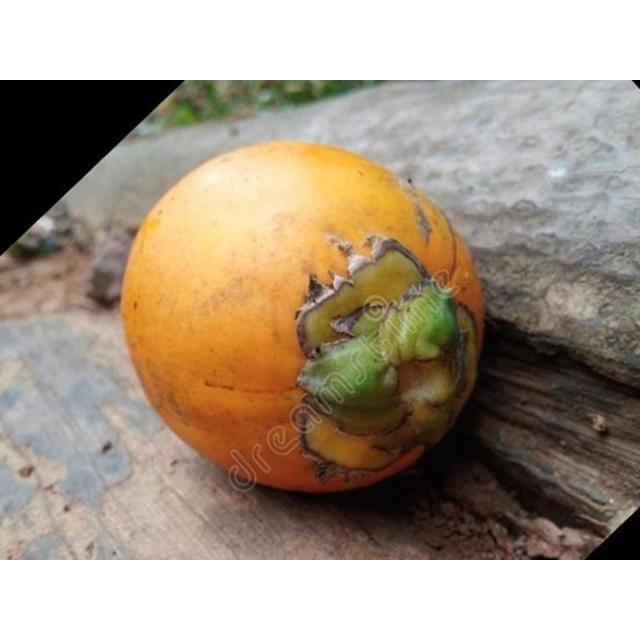good: (117, 140, 488, 497)
